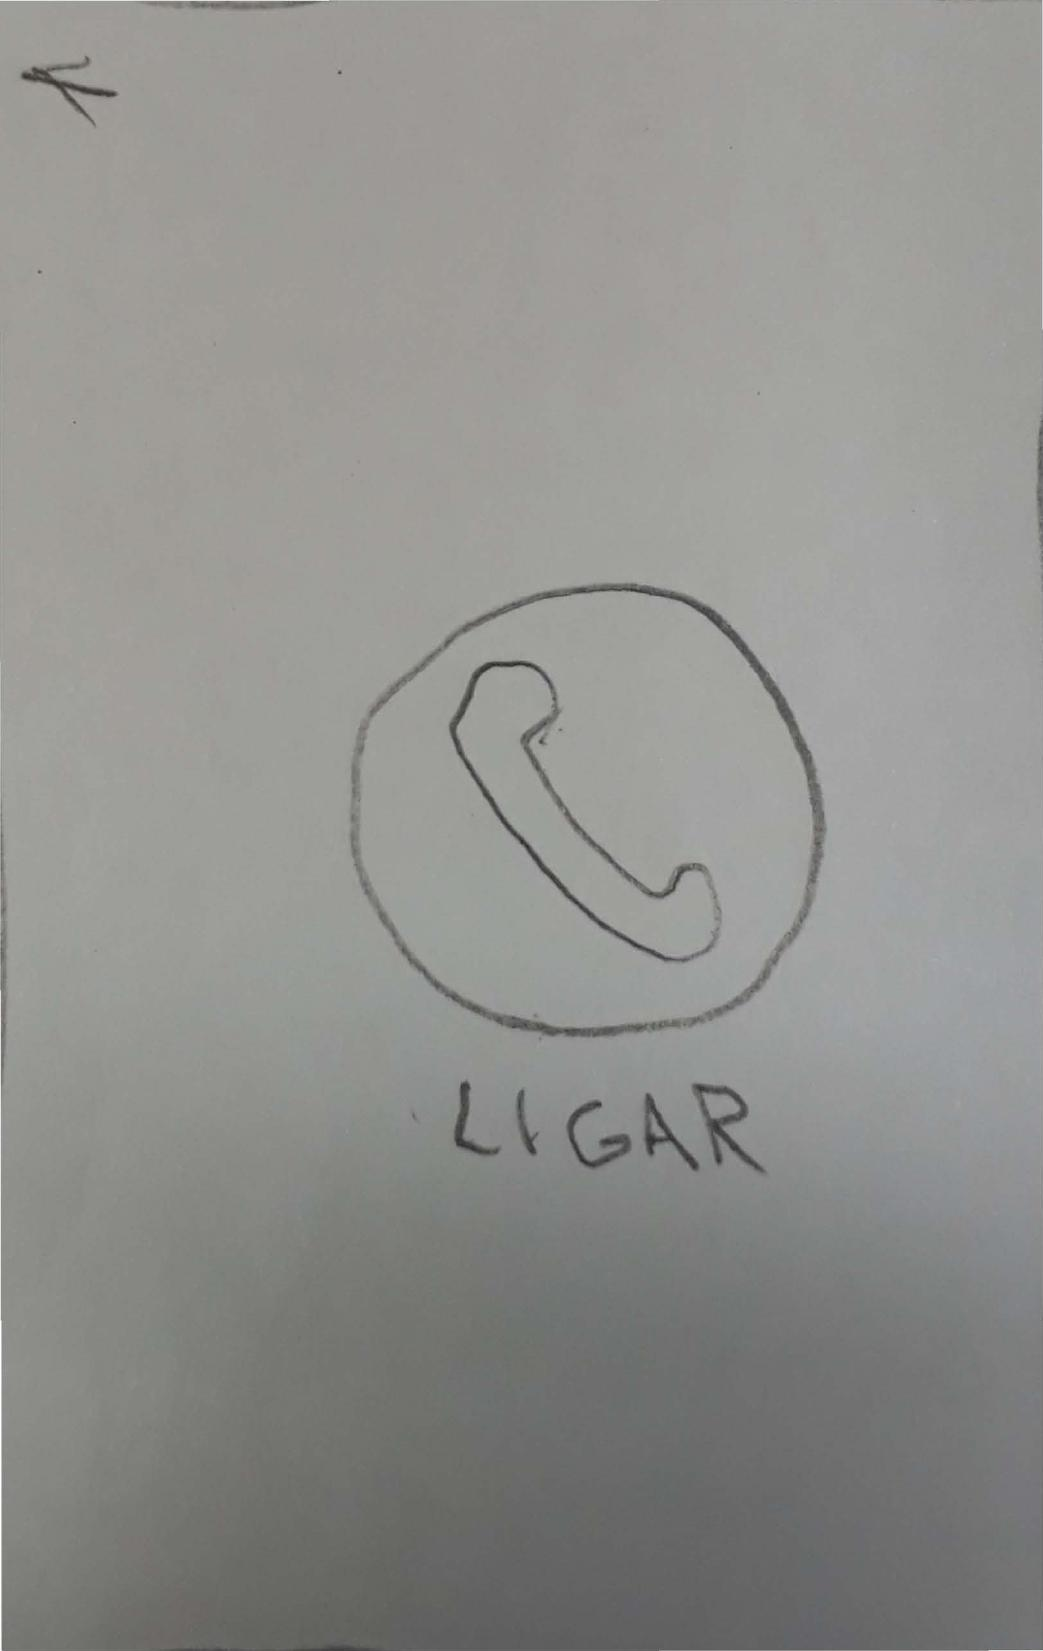Button: (23, 55, 118, 131)
Image: (348, 583, 828, 1037)
Label: (451, 1081, 767, 1175)
Screen: (0, 0, 1042, 1650)
